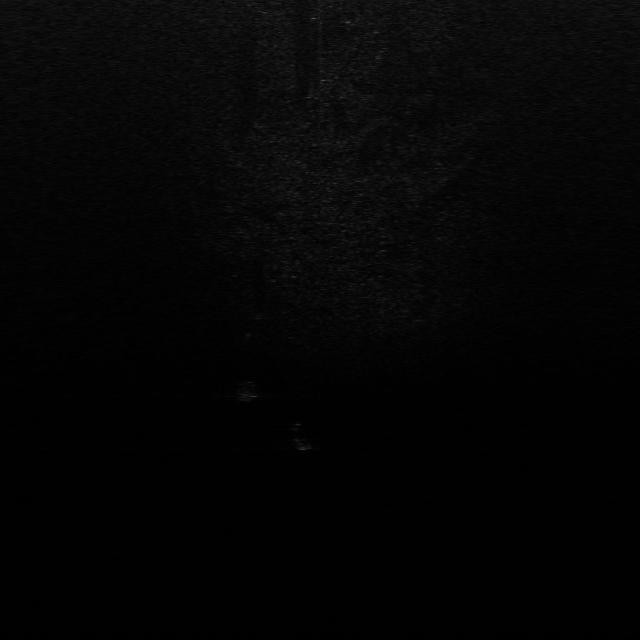ball: (247, 310, 271, 326)
circle cage: (230, 376, 264, 405)
tyre: (281, 417, 323, 455)
